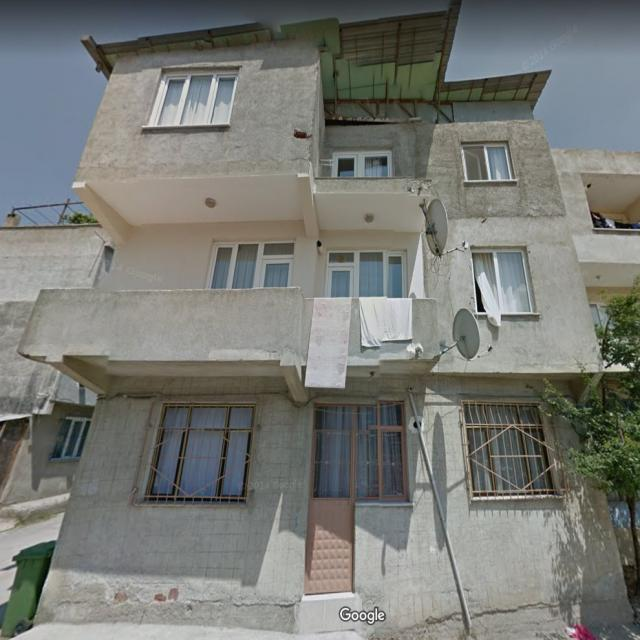Building: (19, 0, 631, 639)
